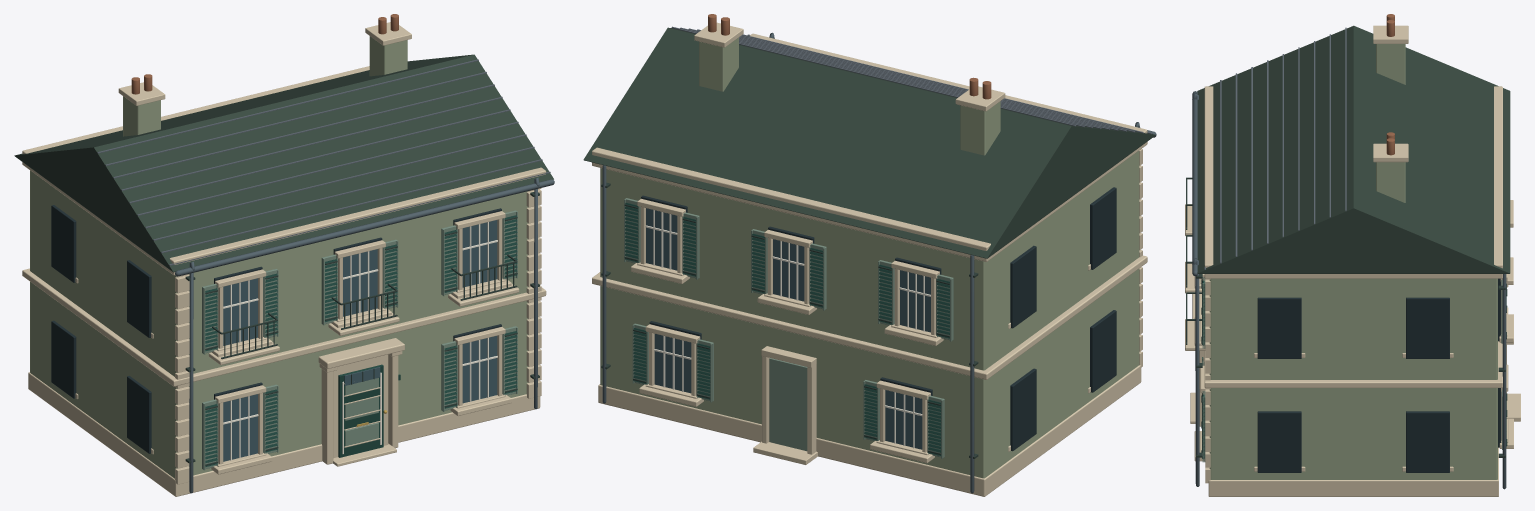
Rendered from sage_townhouse.glb.
3 renders of one model, left to right at view 1: azimuth 30°, elevation 25°; view 2: azimuth 150°, elevation 25°; view 3: azimuth 270°, elevation 25°, orthographic. The views are drawn at different scales.
Visible parts, largest first — view 1: Pitched_slate_roof, Building_masonry, Stone_plinth, Continuous_cornice, Continuous_cornice.002, Zinc_gutter, Window_glass.001, Window_glass, Window_glass.006, Window_glass.002, Window_glass.004, Entry_door (+26 smaller); view 2: Building_masonry, Pitched_slate_roof, Stone_plinth, Continuous_cornice, Continuous_cornice.002, Garden_entry_door, Continuous_cornice.001, Window_recess.011, Window_recess.013, Window_recess.010, Window_recess.012, Window_glass.009 (+20 smaller); view 3: Pitched_slate_roof, Building_masonry, Stone_plinth, Continuous_cornice.002, Window_recess.015, Window_recess.017, Window_recess.014, Window_recess.016, Continuous_cornice, Continuous_cornice.001, Rainwater_downpipe.001, Chimney_stack.001 (+7 smaller).
Boxes of the visible parts, box(x1,y1,x2,y2) form: Pitched_slate_roof: box(14, 54, 553, 272); Building_masonry: box(30, 170, 528, 478); Stone_plinth: box(28, 372, 540, 496); Continuous_cornice: box(22, 268, 546, 386); Continuous_cornice.002: box(22, 66, 546, 264); Zinc_gutter: box(175, 179, 554, 276); Window_glass.001: box(462, 336, 497, 403); Window_glass: box(223, 394, 257, 461); Window_glass.006: box(462, 220, 497, 287); Window_glass.002: box(223, 278, 257, 345); Window_glass.004: box(343, 249, 377, 316); Entry_door: box(338, 364, 383, 457); Building_masonry: box(600, 151, 1139, 478); Pitched_slate_roof: box(583, 27, 1155, 258); Stone_plinth: box(598, 365, 1141, 496); Continuous_cornice: box(592, 255, 1147, 379); Continuous_cornice.002: box(592, 33, 1147, 250); Garden_entry_door: box(769, 358, 807, 451); Continuous_cornice.001: box(592, 141, 1147, 261); Window_recess.011: box(1010, 368, 1036, 451); Window_recess.013: box(1010, 245, 1036, 328); Window_recess.010: box(1090, 310, 1116, 392); Window_recess.012: box(1090, 187, 1116, 269); Window_glass.009: box(885, 390, 922, 449); Pitched_slate_roof: box(1197, 25, 1510, 273); Building_masonry: box(1209, 278, 1497, 479); Stone_plinth: box(1208, 447, 1498, 496); Continuous_cornice.002: box(1204, 86, 1502, 268); Window_recess.015: box(1257, 411, 1301, 472); Window_recess.017: box(1257, 297, 1301, 358); Window_recess.014: box(1406, 411, 1449, 472); Window_recess.016: box(1406, 297, 1449, 358); Continuous_cornice: box(1204, 341, 1502, 387); Continuous_cornice.001: box(1204, 274, 1502, 278); Rainwater_downpipe.001: box(1192, 258, 1199, 486); Chimney_stack.001: box(1376, 162, 1405, 202).
Bounding box in the file's own units: 10.5 × 8.9 × 8.16.
